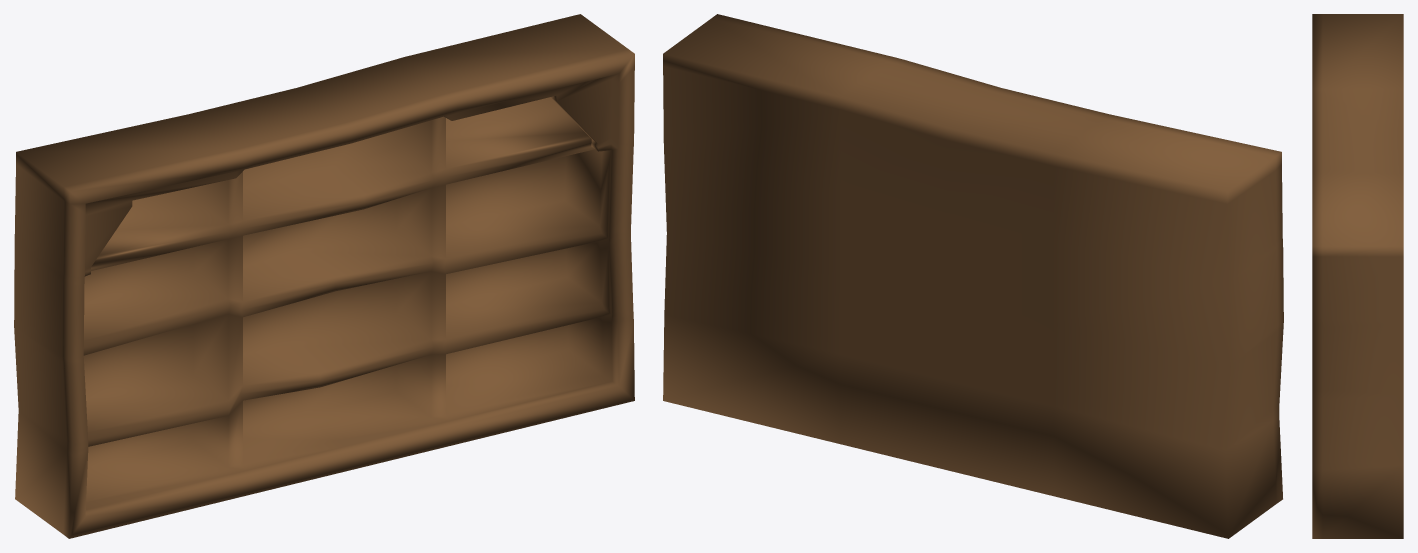
The model's file is Bookshelf.glb.
3 renders of one model, left to right at view 1: azimuth 30°, elevation 25°; view 2: azimuth 150°, elevation 25°; view 3: azimuth 270°, elevation 25°, orthographic. The views are drawn at different scales.
Visible parts, largest first — view 1: Bookshelf.001; view 2: Bookshelf.001; view 3: Bookshelf.001.
Boxes of the visible parts, <box> form: Bookshelf.001: <box>14,14,634,538</box>; Bookshelf.001: <box>663,14,1283,538</box>; Bookshelf.001: <box>1312,14,1403,538</box>.
Size of the model in its own units: 3.45 by 2.02 by 0.5727.
